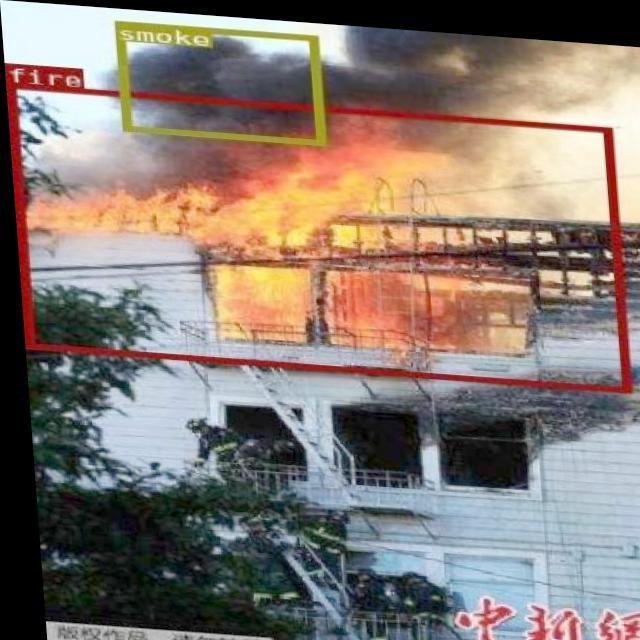Fire: (22, 116, 560, 348)
Smoke: (95, 11, 640, 200)
